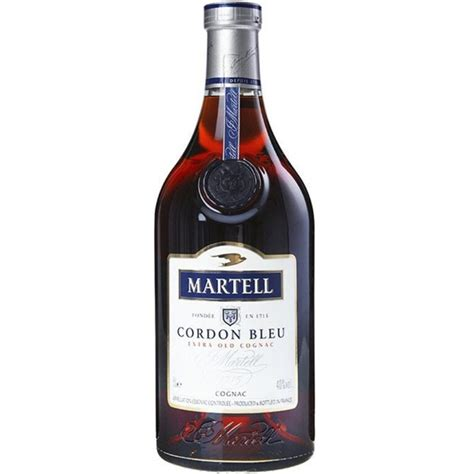alcohol: (151, 4, 316, 474)
